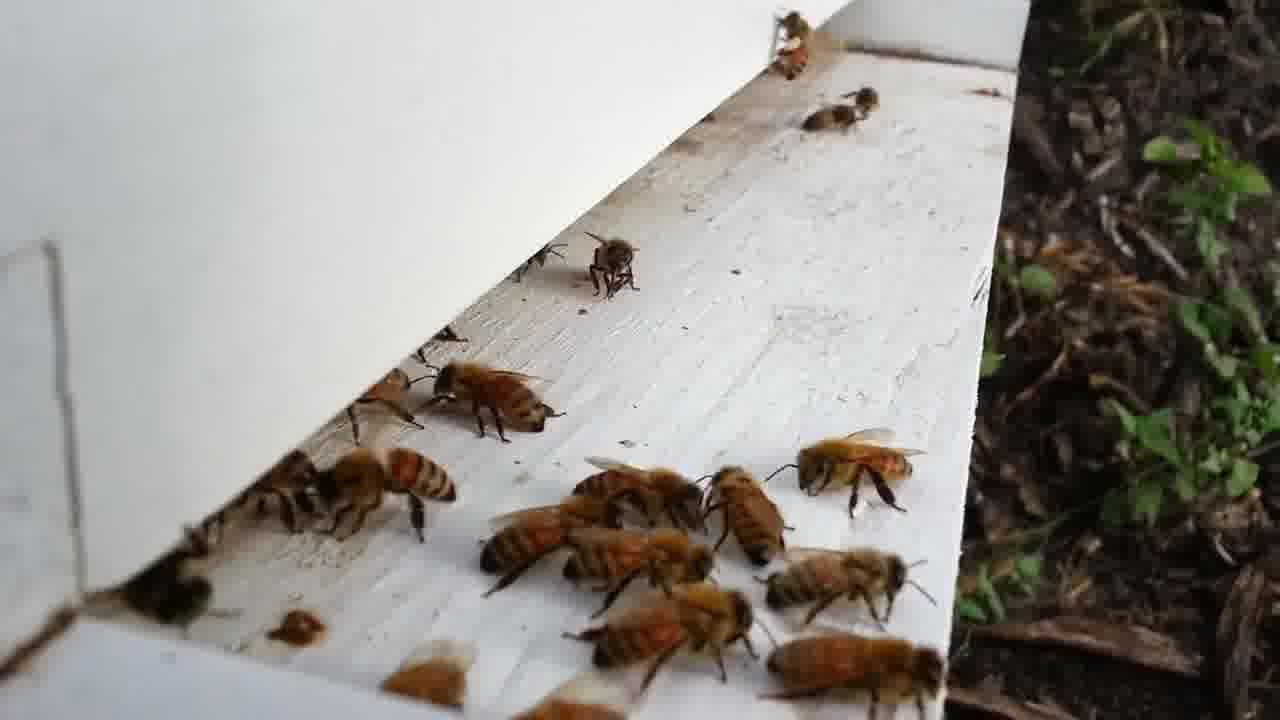pollen: (777, 10, 809, 87)
